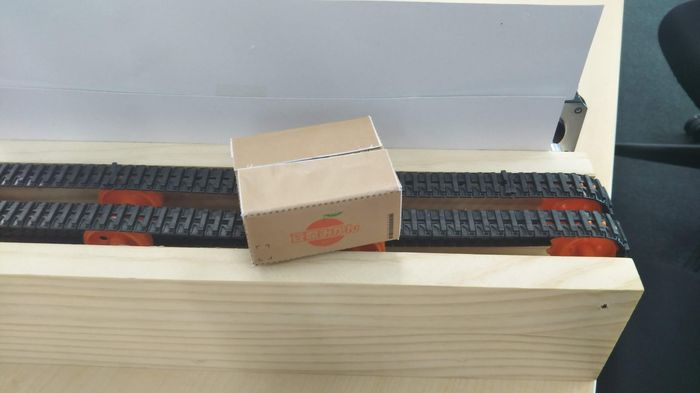box1: (229, 114, 405, 264)
